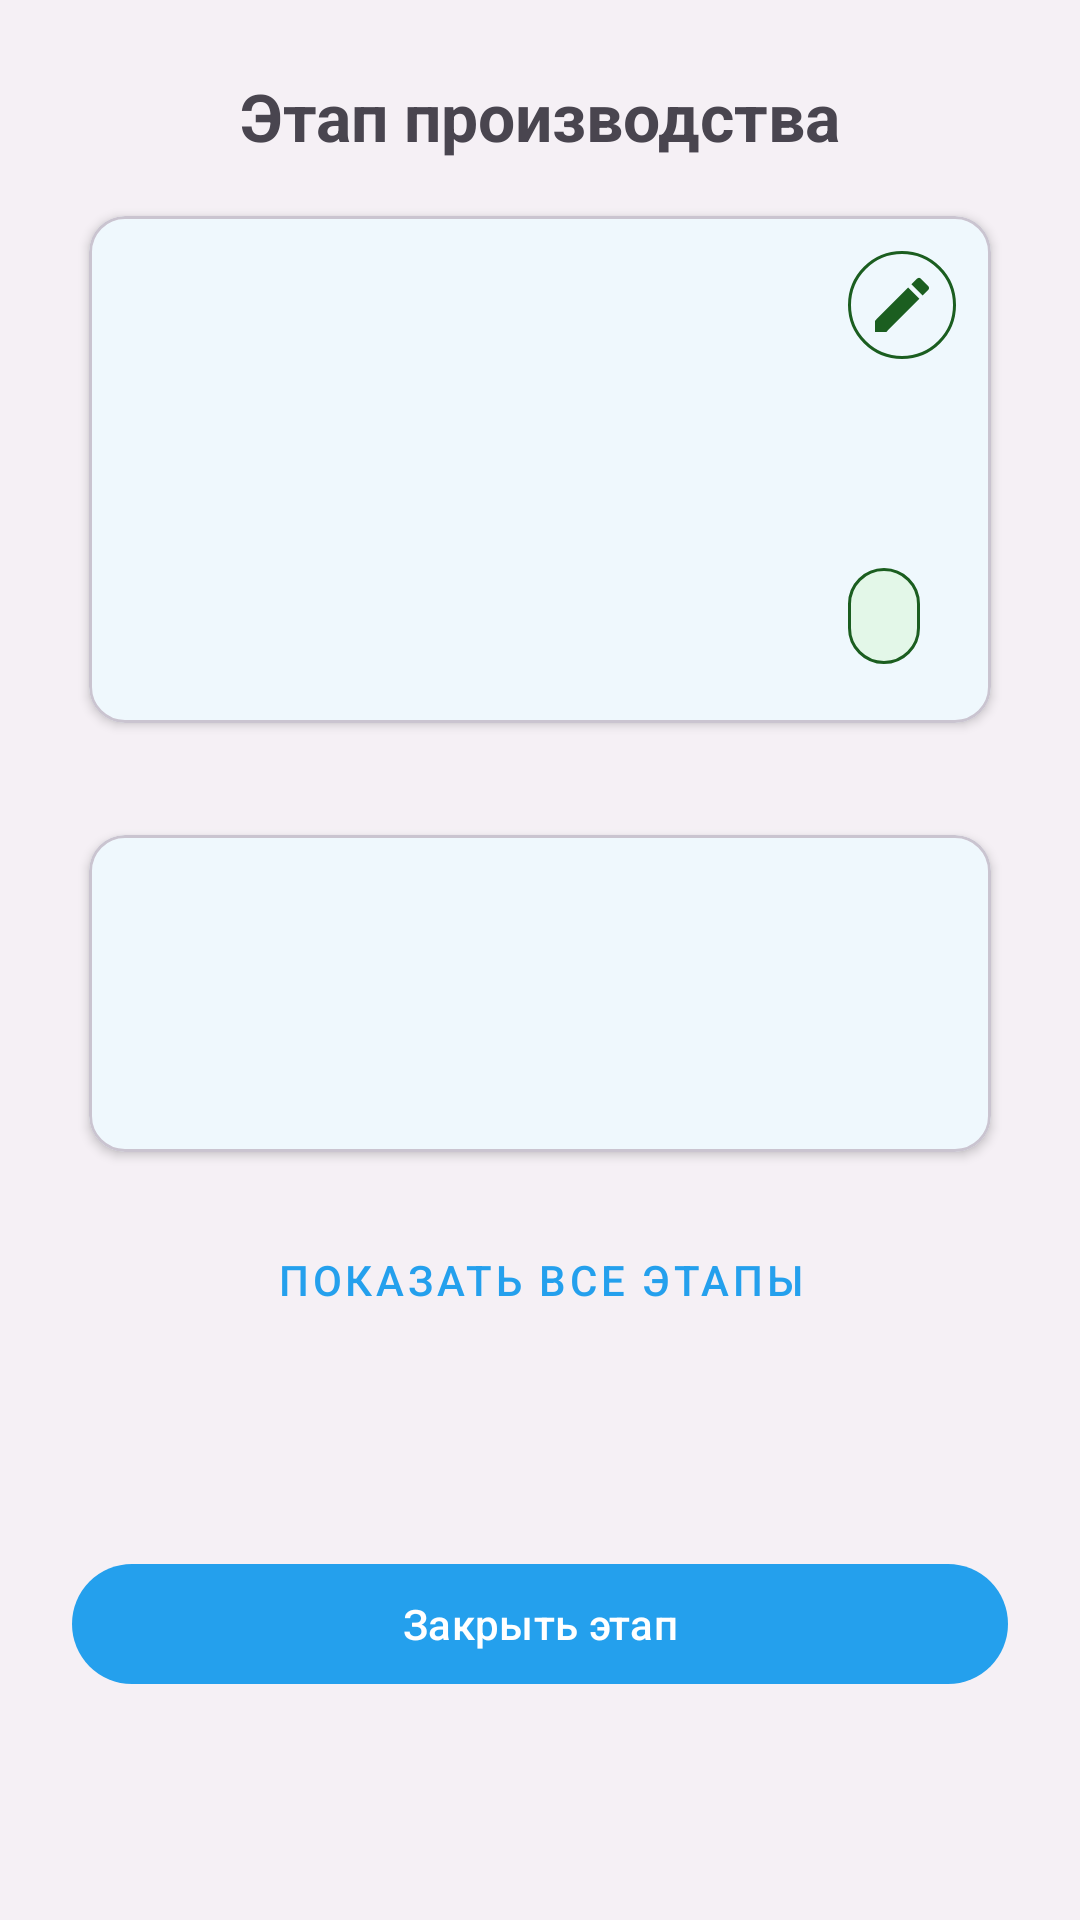

Locate icon controls on the screen. Image size 1080 x 1920, boxes as bbox(x1, y1, x2, y2).
Изменить: bbox(848, 251, 956, 359)
